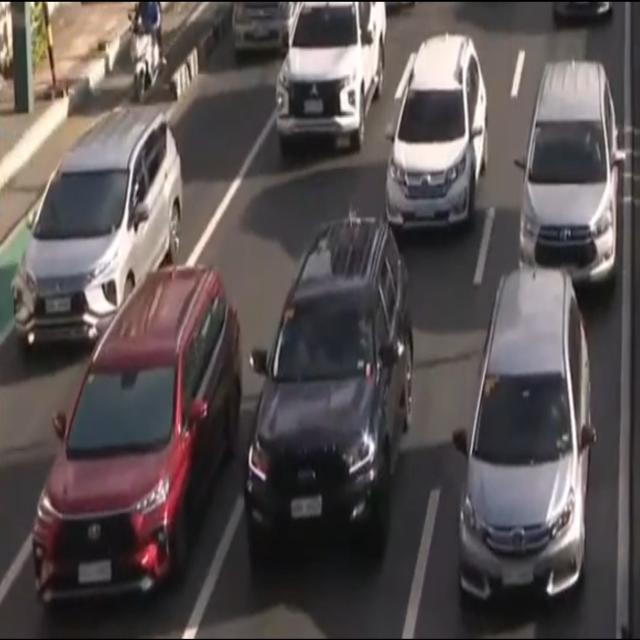Motorcycle: (127, 0, 163, 101)
SUV: (34, 263, 241, 603), (244, 218, 412, 548), (458, 269, 590, 589), (15, 117, 181, 343), (522, 61, 617, 278), (274, 3, 388, 136)
Sedan: (388, 37, 485, 233)
